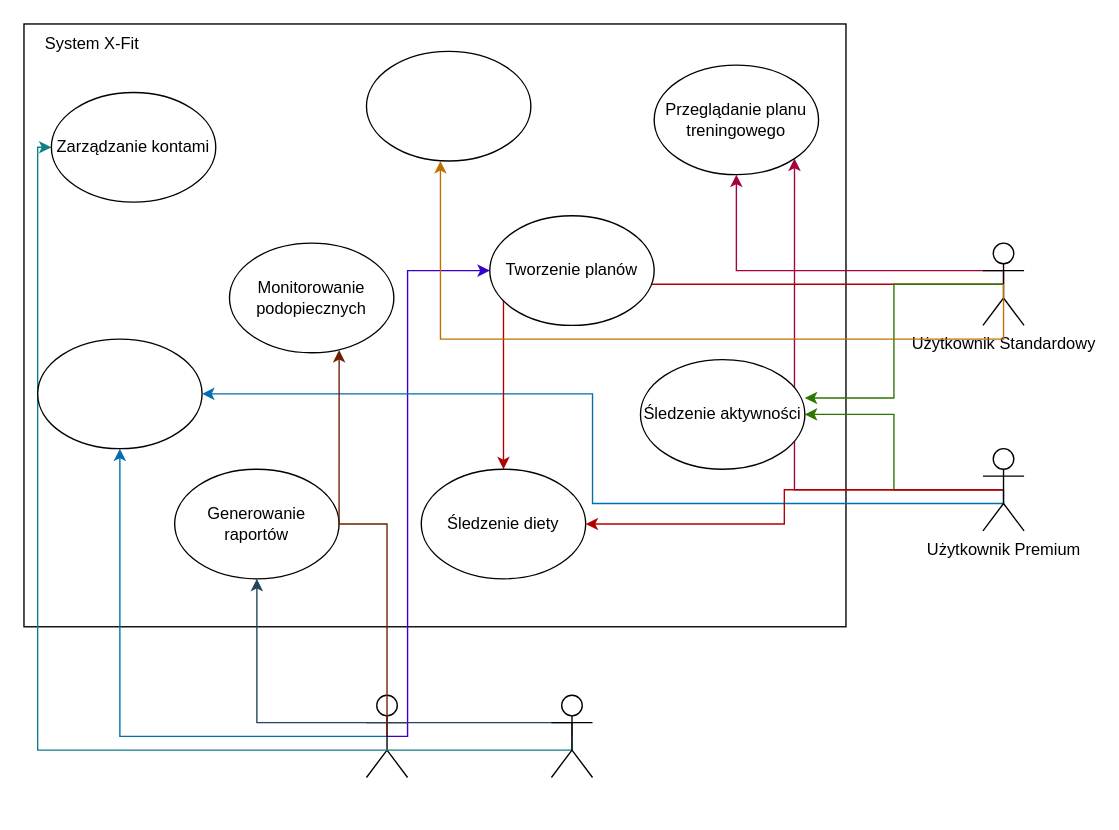
This 1119x830 diagram has some shape labels left out. The centre of each missing label's shape, as x and y in pixels:
Administrator: (571,735)
Komunikacja z trenerem: (119,393)
Otrzymywanie planu od AI: (448,105)
Trener: (386,735)
